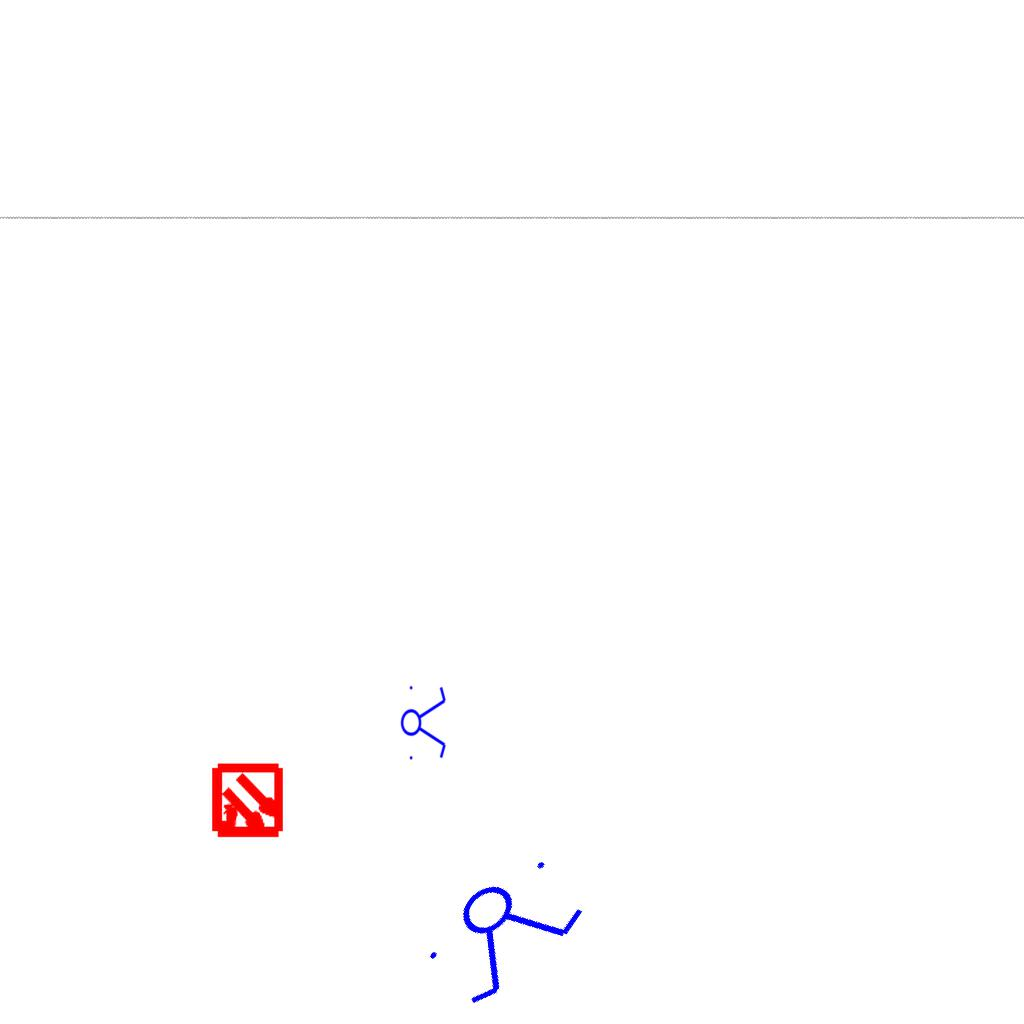OT_Multisensormelder_(Kombination_RMO_WMD): (191, 746, 304, 859)
Serienschalter: (409, 838, 601, 1020), (400, 680, 448, 764)
